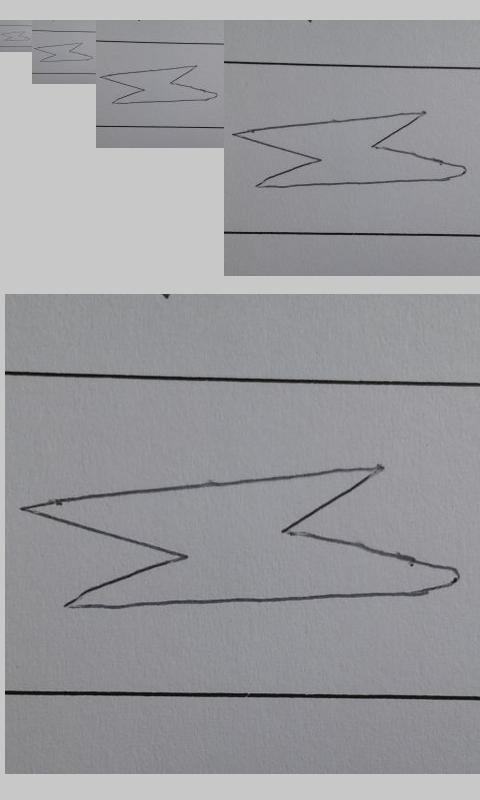edit_text: (19, 463, 462, 613), (232, 110, 469, 189), (99, 64, 219, 105), (34, 42, 93, 63), (1, 31, 30, 42)
